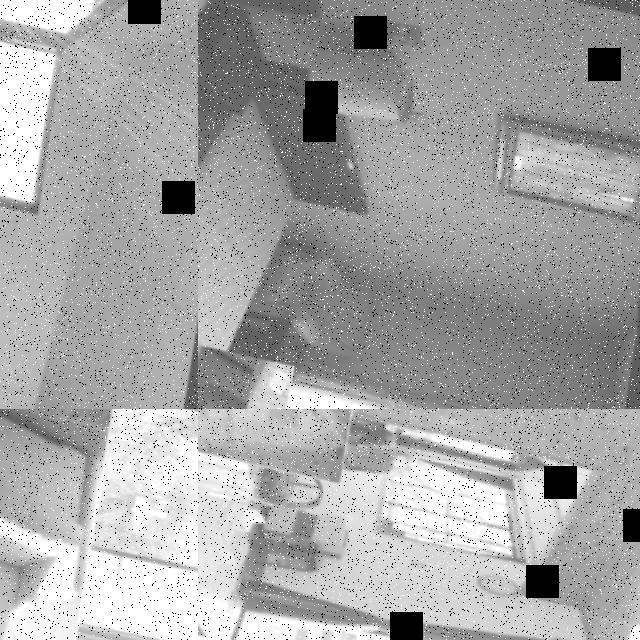couch: (0, 411, 104, 640), (252, 240, 376, 346), (198, 340, 254, 409)
